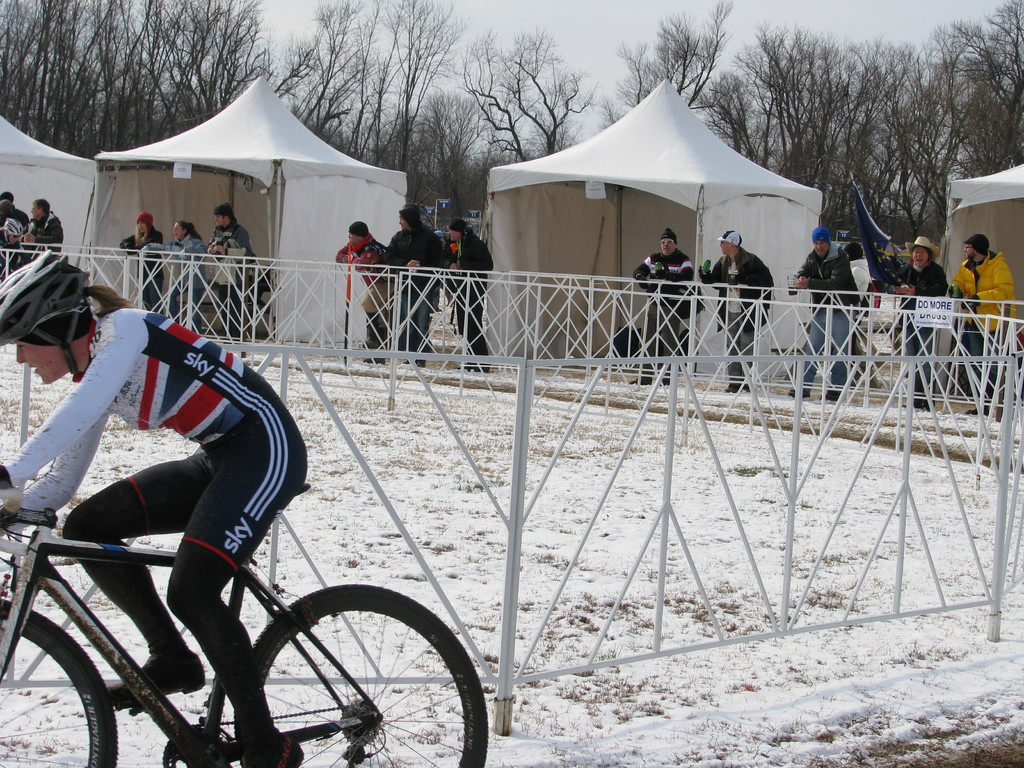Bike: (1, 509, 538, 762)
